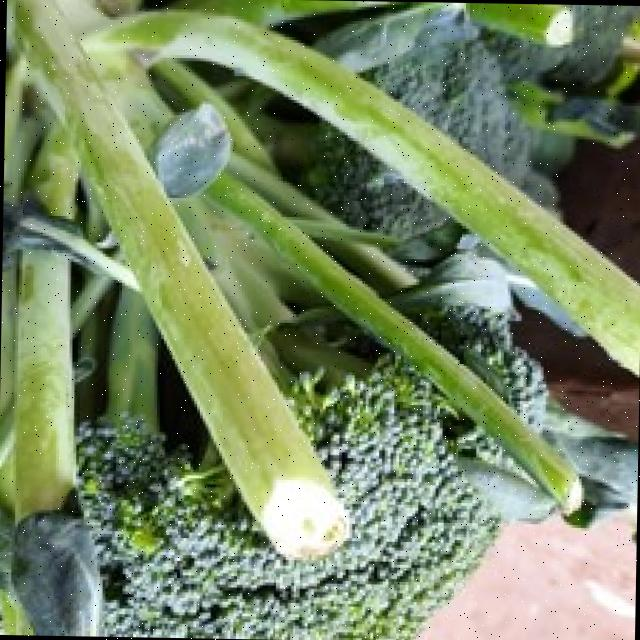Broccoli: (77, 354, 517, 640), (77, 358, 498, 640), (364, 40, 549, 198), (365, 38, 531, 186), (261, 123, 446, 237), (265, 124, 446, 235), (421, 306, 545, 427), (443, 311, 543, 422)
